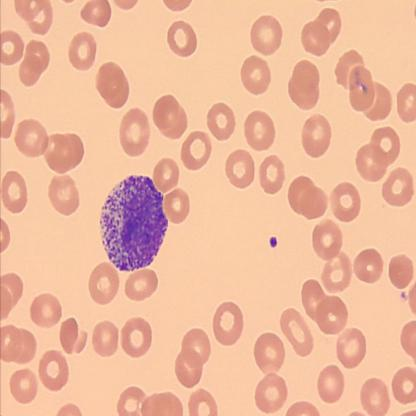Myelocyte: (99, 172, 170, 272)
